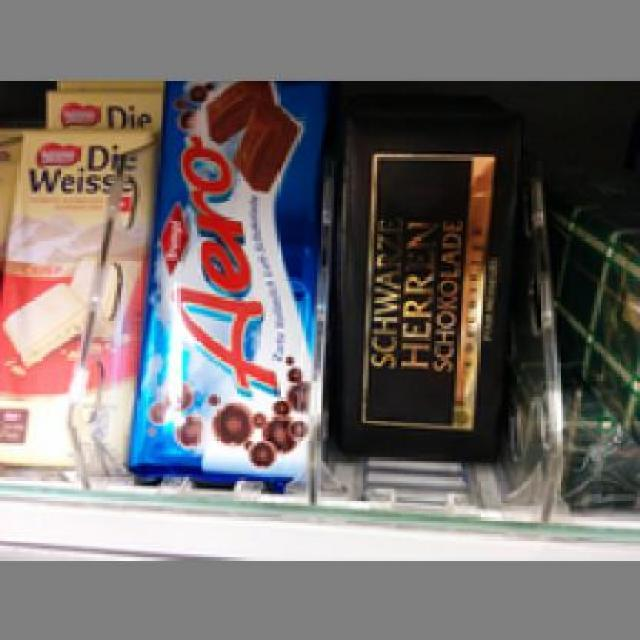Chocolate: (137, 83, 317, 480), (337, 114, 520, 457), (0, 127, 152, 472)
